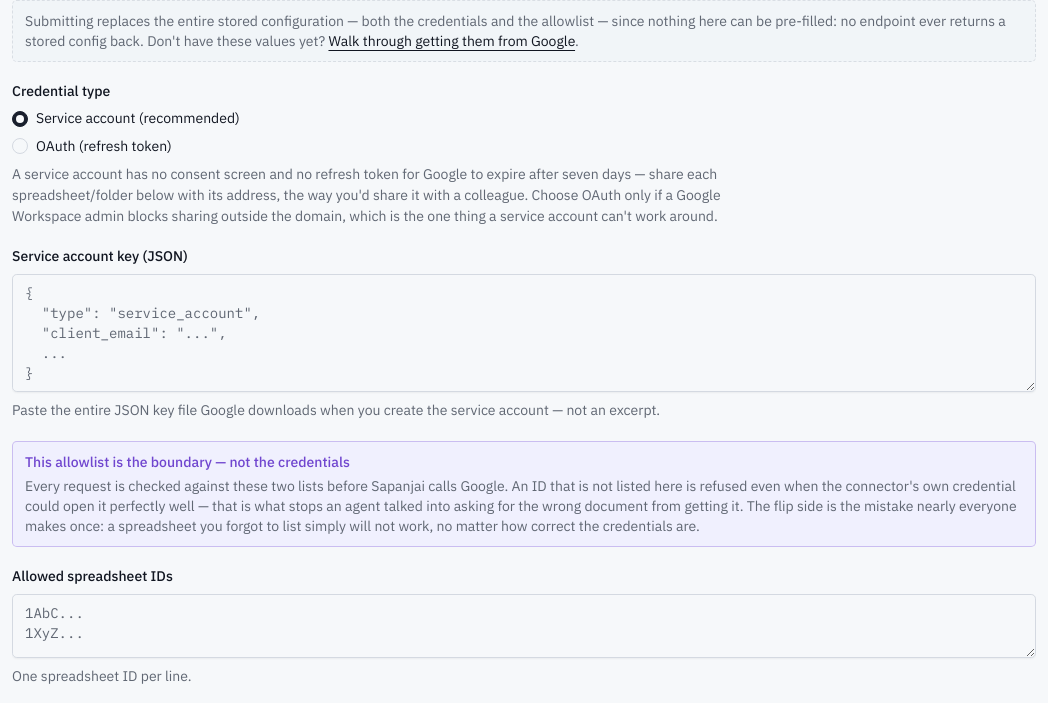
GoogleSheetsForm › swaps the credential fieldset when the toggle changes, in either direction
The image size is (1048, 703).
Click the radio button named "OAuth (refresh token)" next to "OAuth (refresh token)" at {"x": 20, "y": 146}, box [12, 138, 28, 154]
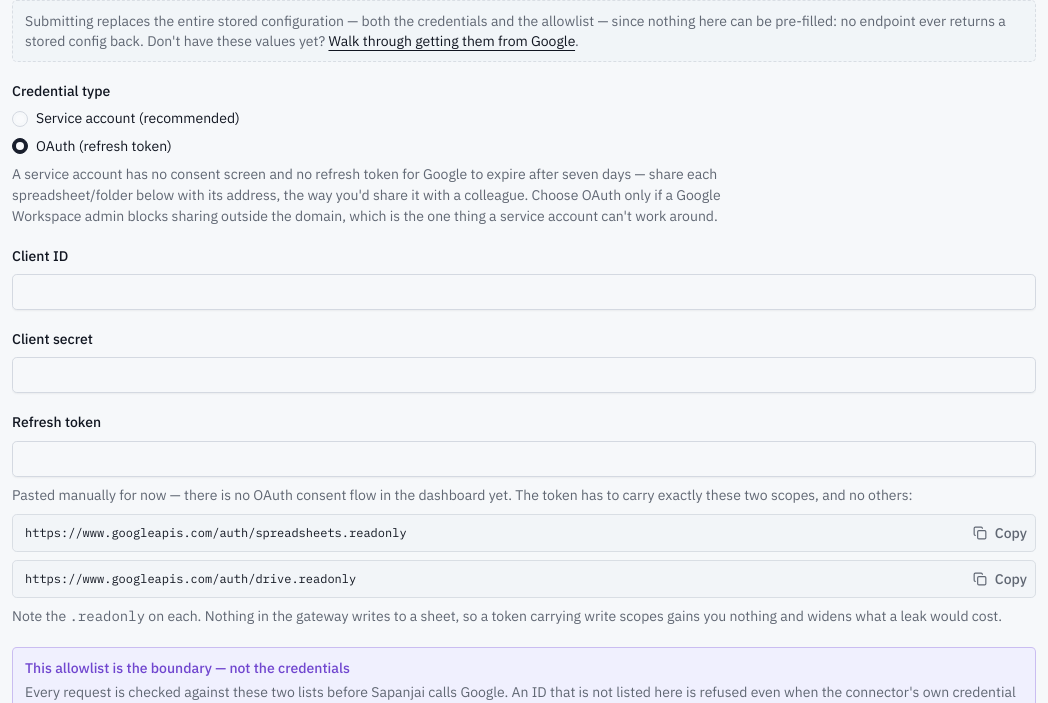
Now the field labelled "Client ID" is shown, box [12, 274, 1036, 310]
Now the label labelled "Service account key (JSON)" is gone
Click the radio button named "Service account (recommended)" next to "Service account (recommended)" at {"x": 20, "y": 119}, box [12, 111, 28, 127]
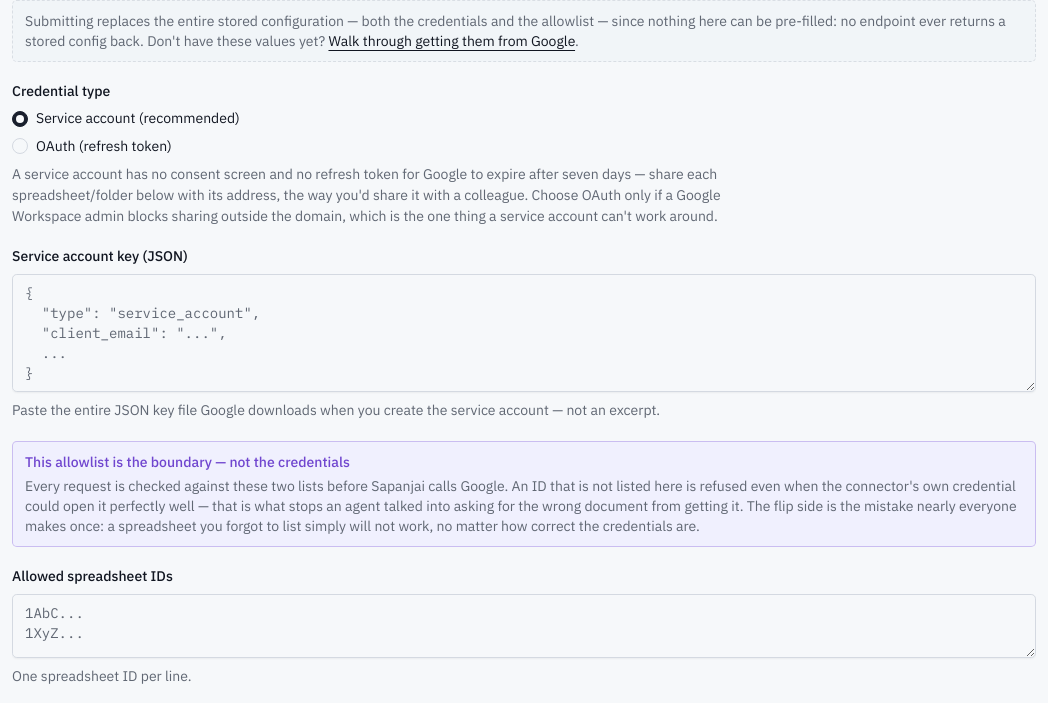
Now the text box labelled "Service account key (JSON)" is shown, box [12, 274, 1036, 392]
Now the label labelled "Client ID" is gone
